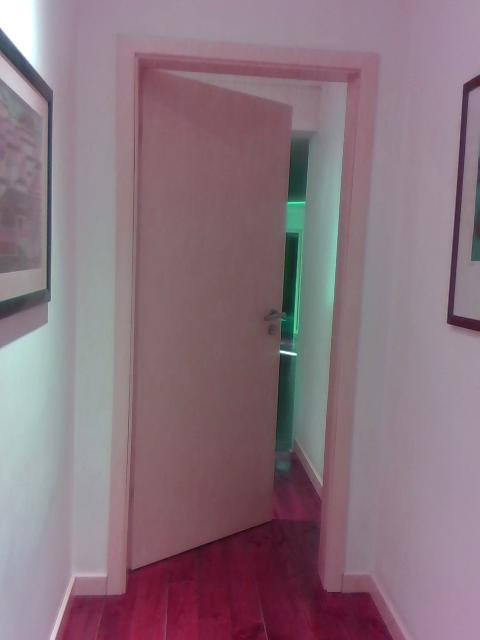semi_door: (102, 32, 378, 595)
